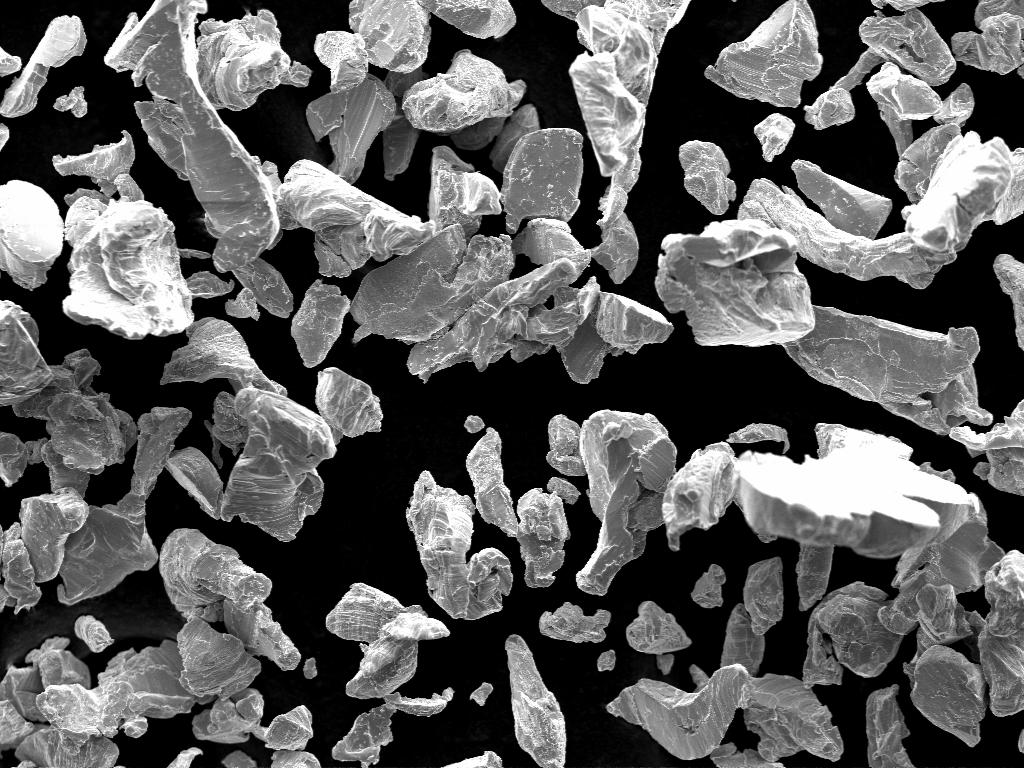Powder: (104, 0, 294, 317), (804, 508, 1004, 745), (740, 124, 1024, 288), (736, 424, 976, 609), (543, 0, 690, 283), (164, 368, 382, 541), (350, 226, 590, 379), (36, 616, 260, 751), (54, 132, 194, 338), (784, 306, 992, 435), (58, 408, 192, 604), (0, 300, 136, 489), (548, 410, 676, 594), (606, 664, 844, 762), (656, 220, 814, 346), (160, 530, 300, 670), (804, 8, 956, 130), (278, 160, 436, 277), (466, 428, 580, 588), (512, 278, 672, 384), (406, 472, 512, 619), (326, 584, 450, 698), (704, 0, 822, 108), (402, 50, 526, 150), (196, 10, 310, 110), (0, 488, 90, 612), (314, 0, 432, 91), (160, 318, 286, 395), (332, 688, 454, 767), (306, 74, 396, 181), (0, 16, 86, 118), (502, 128, 584, 232), (662, 442, 736, 550), (506, 634, 566, 767), (792, 160, 892, 239), (978, 550, 1024, 716), (192, 688, 312, 751), (720, 558, 784, 676), (950, 400, 1024, 495), (0, 180, 64, 289), (866, 62, 942, 153), (430, 146, 502, 237), (952, 0, 1024, 77), (292, 280, 350, 367), (382, 68, 426, 179), (678, 140, 736, 215), (512, 218, 590, 273), (16, 726, 120, 767), (226, 258, 294, 319), (866, 684, 912, 768), (418, 0, 516, 38), (490, 104, 540, 173), (626, 602, 692, 653), (26, 638, 90, 688), (994, 254, 1024, 349), (540, 602, 610, 642), (0, 432, 48, 486), (0, 666, 46, 721), (754, 114, 794, 161), (710, 742, 782, 768), (728, 424, 790, 453), (0, 700, 34, 751), (934, 84, 974, 125), (690, 564, 726, 608), (74, 616, 114, 652), (186, 272, 234, 298), (55, 86, 88, 117), (444, 752, 502, 767), (272, 750, 320, 768), (168, 748, 202, 768), (222, 750, 258, 768), (0, 48, 22, 75), (470, 682, 494, 706), (656, 652, 674, 675), (598, 650, 616, 671), (464, 416, 484, 434), (302, 658, 318, 679), (178, 249, 210, 259), (0, 124, 10, 149)
